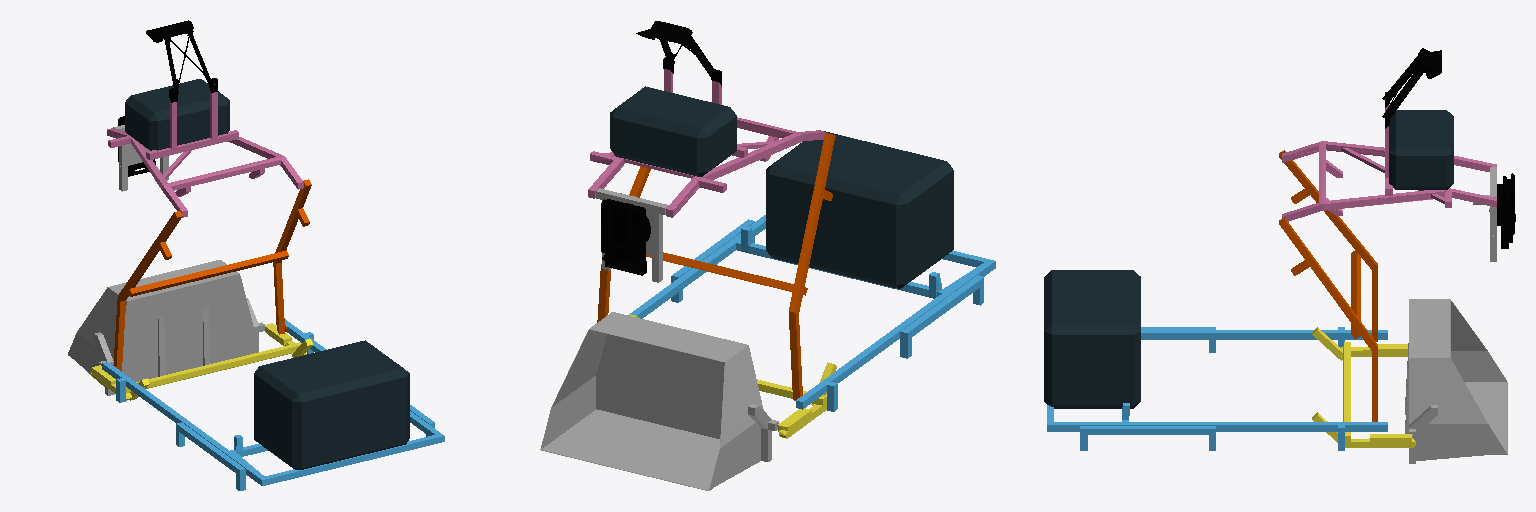
robot.urdf — Excahauler:
<?xml version="1.0"?>
<robot name="Excahauler">
  <link name="base_link">
  </link>
  
  <link name="frame_link">
    <visual>
      <geometry>
        <mesh filename="package://lunatic_exchange/meshes/frame.dae"/>
      </geometry>
    </visual>
  </link>  
  <joint name="drive" type="fixed">
    <origin xyz="0 0 0"/>
    <parent link="base_link"/>
    <child link="frame_link"/>
  </joint>


  <link name="frameBox_link">
    <visual>
      <geometry>
        <mesh filename="package://lunatic_exchange/meshes/frameBox.dae"/>
      </geometry>
    </visual>
  </link>
<joint name="frameBox" type="fixed">
  <origin rpy="0 0 0" xyz="0 0 0"/>
  <parent link="frame_link"/>
  <child link="frameBox_link"/>
</joint>




  <link name="fork_link">
    <visual>
      <geometry>
        <mesh filename="package://lunatic_exchange/meshes/fork.dae"/>
      </geometry>
    </visual>
  </link>  
<joint name="fork" type="revolute">
  <axis xyz="-1 0 0"/>
  <limit effort="1000.0" lower="-1.02" upper="0.17" velocity="0.5"/>
  <origin rpy="0 0 0" xyz="0 0.455 0.150"/>
  <parent link="frame_link"/>
  <child link="fork_link"/>
</joint>


  <link name="dump_link">
    <visual>
      <geometry>
        <mesh filename="package://lunatic_exchange/meshes/dump.dae"/>
      </geometry>
    </visual>
  </link>  
<joint name="dump" type="revolute">
  <axis xyz="1 0 0"/>
  <limit effort="1000.0" lower="-1.40" upper="-0.17" velocity="0.5"/>
  <origin rpy="0 0 0" xyz="0 0.250 0.020"/>
  <parent link="fork_link"/>
  <child link="dump_link"/>
</joint>
  
  
  <link name="boom_link">
    <visual>
      <geometry>
        <mesh filename="package://lunatic_exchange/meshes/boom.dae"/>
      </geometry>
    </visual>
  </link>  
<joint name="boom" type="revolute">
  <axis xyz="-1 0 0"/>
  <limit effort="1000.0" lower="-1.01" upper="0.91" velocity="0.5"/>
  <origin rpy="0 0 0" xyz="0 0.570 0.215"/>
  <parent link="frame_link"/>
  <child link="boom_link"/>
</joint>


  <link name="stick_link">
    <visual>
      <geometry>
        <mesh filename="package://lunatic_exchange/meshes/stick.dae"/>
      </geometry>
    </visual>
  </link>
<joint name="stick" type="revolute">
  <axis xyz="-1 0 0"/>
  <limit effort="1000.0" lower="-0.56" upper="1.05" velocity="0.5"/>
  <origin rpy="0 0 0" xyz="0 -0.312 0.750"/>
  <parent link="boom_link"/>
  <child link="stick_link"/>
</joint>


  <link name="stickBox_link">
    <visual>
      <geometry>
        <mesh filename="package://lunatic_exchange/meshes/stickBox.dae"/>
      </geometry>
    </visual>
  </link>
<joint name="stickBox" type="fixed">
  <origin rpy="0 0 0" xyz="0 0 0"/>
  <parent link="stick_link"/>
  <child link="stickBox_link"/>
</joint>
  
  
  
  <link name="stickCamera_link">
    <visual>
      <geometry>
        <mesh filename="package://lunatic_exchange/meshes/stickCamera.dae"/>
      </geometry>
    </visual>
  </link>
<joint name="stickCamera" type="fixed">
  <origin rpy="0 0 0" xyz="0 0 0"/>
  <parent link="stick_link"/>
  <child link="stickCamera_link"/>
</joint>

  
  
  <link name="tilt_link">
    <visual>
      <geometry>
        <mesh filename="package://lunatic_exchange/meshes/tilt.dae"   />
      </geometry>
    </visual>
  </link>
  
<joint name="tilt" type="revolute">
  <axis xyz="-1 0 0"/>
  <limit effort="1000.0" lower="-1.31" upper="0.91" velocity="0.5"/>
  <origin rpy="0 0 0" xyz="0 0.735 0.012"/>
  <parent link="stick_link"/>
  <child link="tilt_link"/>
</joint>


  
  <link name="spin_link">
  </link>
  
<joint name="spin" type="revolute">
  <axis xyz="0 1 0"/>
  <limit effort="1000.0" lower="-0.5" upper="0.5" velocity="0.5"/>
  <origin rpy="0 0 0" xyz="0 0 -0.075"/>
  <parent link="tilt_link"/>
  <child link="spin_link"/>
</joint>


  <link name="tool_link">
    <visual>
      <geometry>
        <mesh filename="package://lunatic_exchange/meshes/tool.dae"   />
      </geometry>
    </visual>
  </link>
  
<joint name="tool" type="fixed">
  <origin rpy="0 0 0" xyz="0 0.055 0.075"/>
  <parent link="spin_link"/>
  <child link="tool_link"/>
</joint>



  
</robot>

--- Facts derived from the render (not from the file) ---
Views: 3 orthographic renders of the robot side by side, from view 1: azimuth 30°, elevation 25°; view 2: azimuth 150°, elevation 25°; view 3: azimuth 270°, elevation 25°.
Model Excahauler with 12 links and 11 joints (6 revolute, 5 fixed), rooted at base_link, posed all joints at 0 but 1 set to mid-range because 0 is outside their limits (dump = -0.785).
Links seen in each view (by area): view 1: frameBox_link, dump_link, frame_link, stickBox_link, stick_link, boom_link, fork_link, stickCamera_link, tilt_link; view 2: dump_link, frameBox_link, stickBox_link, frame_link, boom_link, stick_link, tool_link, tilt_link, stickCamera_link, fork_link; view 3: dump_link, frameBox_link, frame_link, stickBox_link, stick_link, boom_link, fork_link, stickCamera_link, tilt_link, tool_link.
Boxes of the visible links, x1,y1,x2,y2 form: frameBox_link: (254,340,409,469); dump_link: (68,260,264,395); frame_link: (102,319,444,490); stickBox_link: (125,79,229,150); stick_link: (107,84,303,217); boom_link: (113,179,311,371); fork_link: (90,323,312,400); stickCamera_link: (146,20,217,102); tilt_link: (113,125,168,191); dump_link: (540,312,778,490); frameBox_link: (766,130,953,288); stickBox_link: (610,86,736,176); frame_link: (628,215,995,411); boom_link: (597,133,835,400); stick_link: (588,69,825,217); tool_link: (601,199,646,275); tilt_link: (596,188,668,282); stickCamera_link: (636,21,721,85); fork_link: (629,314,836,438); dump_link: (1405,299,1507,463); frameBox_link: (1044,270,1140,408); frame_link: (1047,327,1387,450); stickBox_link: (1389,110,1453,189); stick_link: (1282,105,1496,221); boom_link: (1279,150,1377,421); fork_link: (1312,327,1415,447); stickCamera_link: (1382,48,1441,128); tilt_link: (1473,167,1510,261); tool_link: (1501,173,1515,248).
Bounding box of the posed robot: 0.8508 × 1.67 × 1.44 m (x, y, z).
10 mesh visuals loaded from 10 distinct referenced files (10 Collada DAE).
